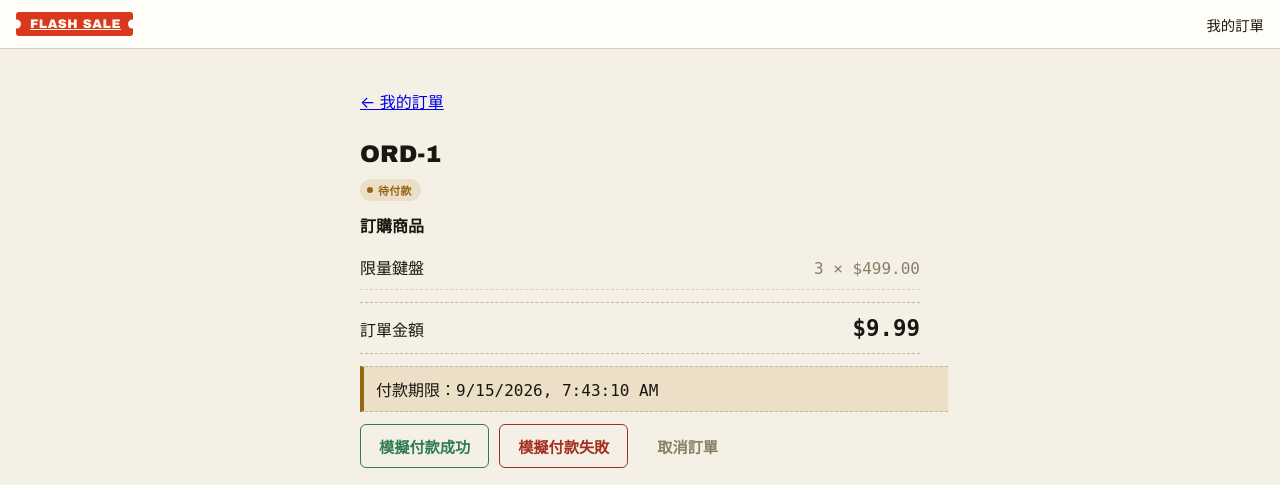
it: OrderDetailPage › cancels the order and reflects the updated status
Step 1. Click the button "取消訂單" → click(688, 446), box [638,424,737,468]
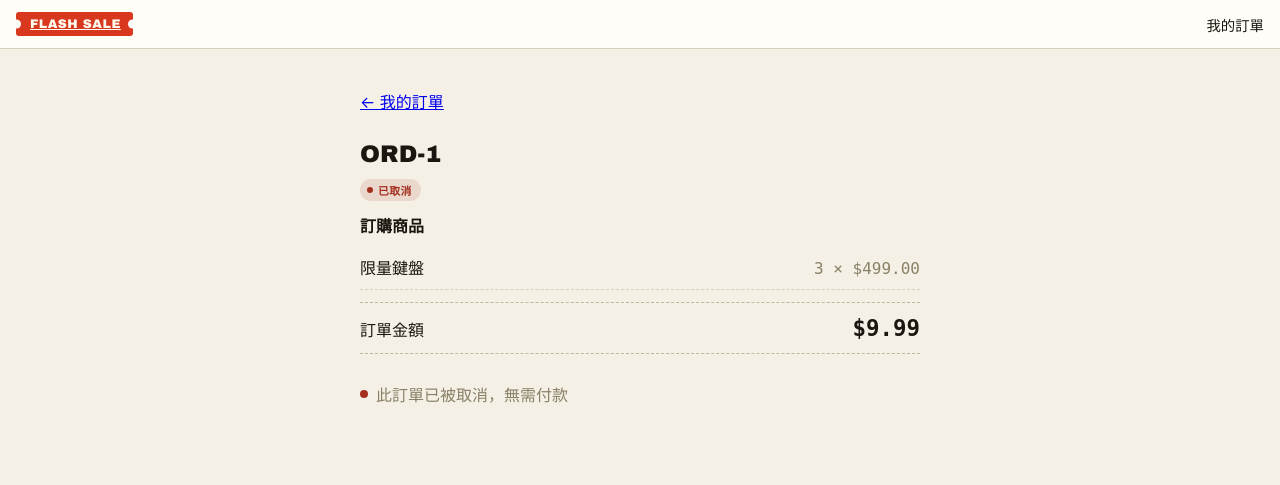
Expected: the text "已取消" is shown, [360,179,421,201]
